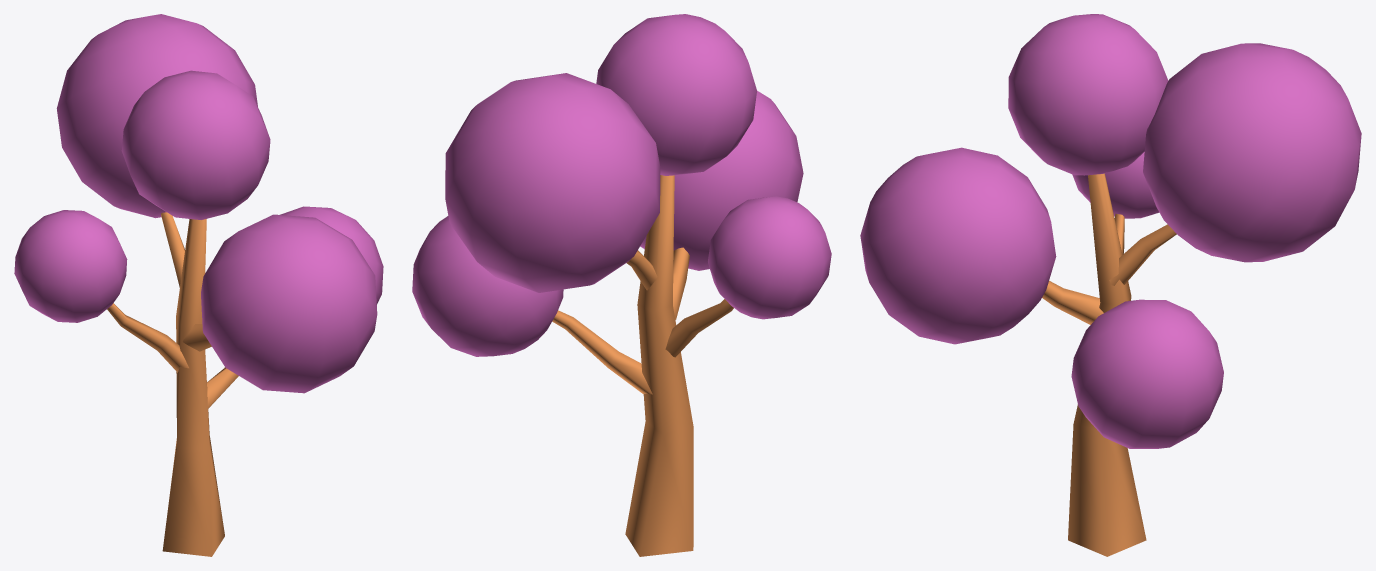
File: bubbleGumTree.fbx
3 renders of one model, left to right at view 1: azimuth 30°, elevation 25°; view 2: azimuth 150°, elevation 25°; view 3: azimuth 270°, elevation 25°, orthographic. The views are drawn at different scales.
Parts seen in each view (by area): view 1: Cylinder; view 2: Cylinder; view 3: Cylinder.
Part boxes in pixels (<box>): Cylinder: <box>14,14,383,556</box>; Cylinder: <box>412,14,831,556</box>; Cylinder: <box>860,14,1361,556</box>.
Size of the model in its own units: 1153 by 1448 by 1275.
